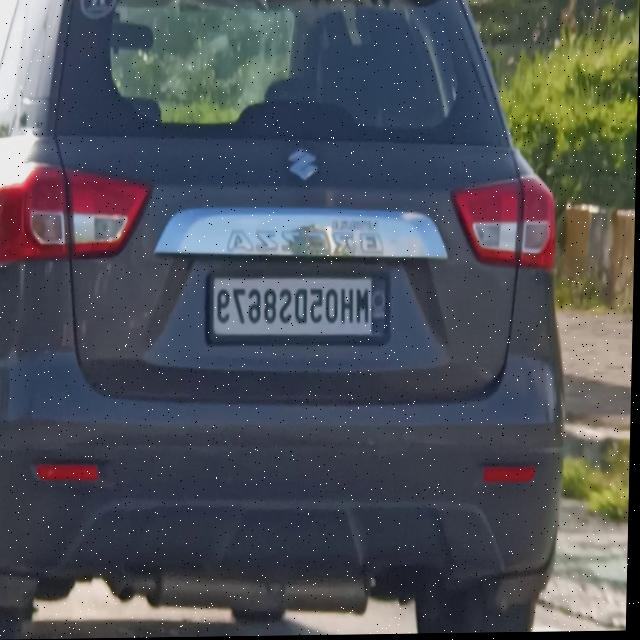plate: (207, 270, 394, 346)
